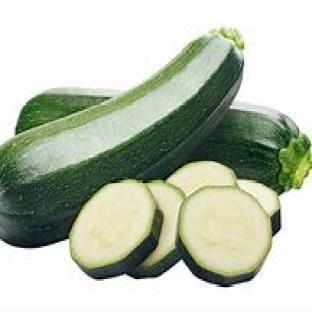Zucchini: (0, 30, 244, 246), (188, 103, 311, 194), (177, 188, 271, 286), (70, 181, 161, 279), (129, 181, 184, 279), (16, 87, 116, 133), (239, 179, 281, 235), (168, 162, 236, 195)
